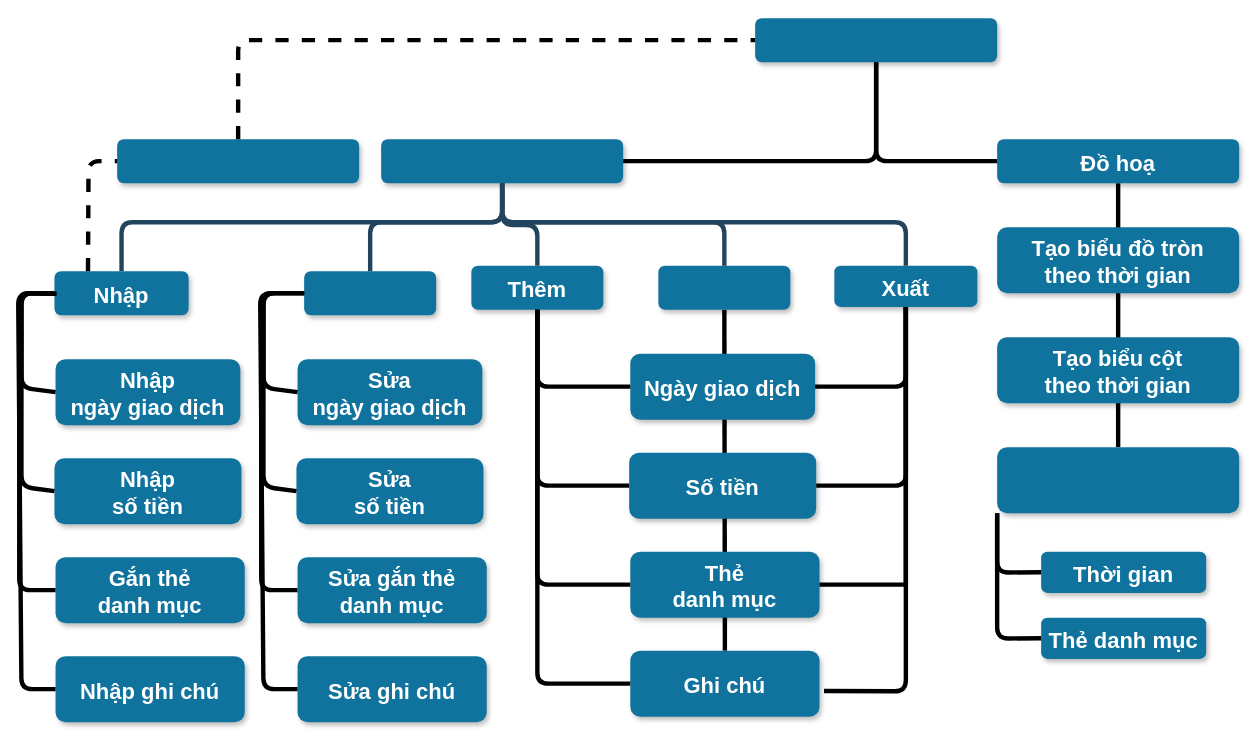
Image size: 1257x740. Some labels were removed from this diagram. Each missing label, with the centre of its shape:
Cơ sở dữ liệu: pixel 502 162
Lọc, hiển thị theo: pixel 1118 481
Quản lý chi tiêu: pixel 876 41
Sheet, Exel API: pixel 238 162
Sửa: pixel 370 294
Xoá: pixel 724 289
